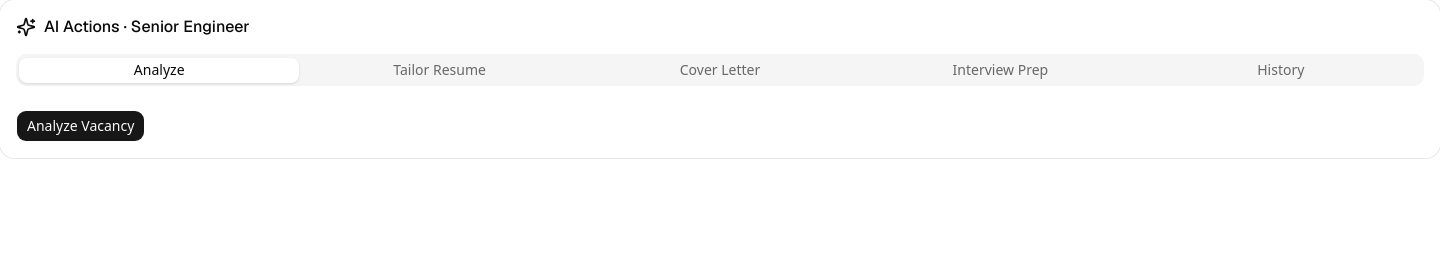
Test: AiActionsPanel › shows a failed state when the async pipeline reports a failure
What coordinates should you click on to do the following:
click the tab "Tailor Resume"
I would click on:
 (440, 70)
Its box is [299, 58, 580, 82].
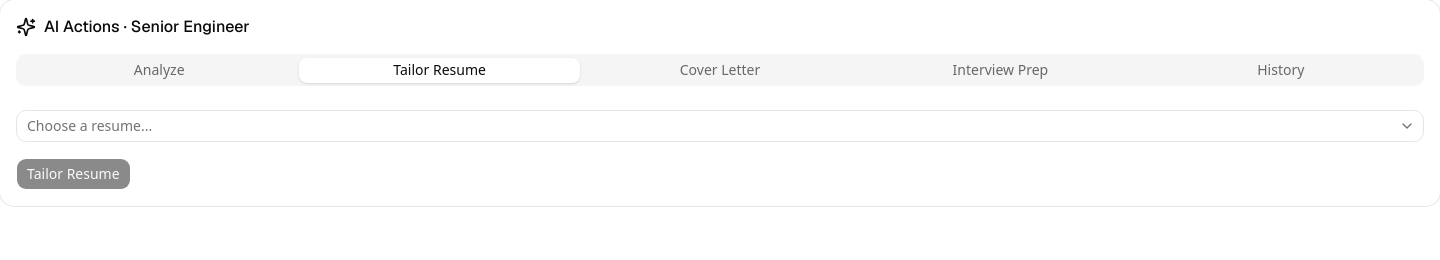
Expected: the number of dropdowns is 1
What coordinates should you click on to do the following:
click the dropdown
I would click on:
 (90, 126)
Its box is [16, 110, 1424, 142].
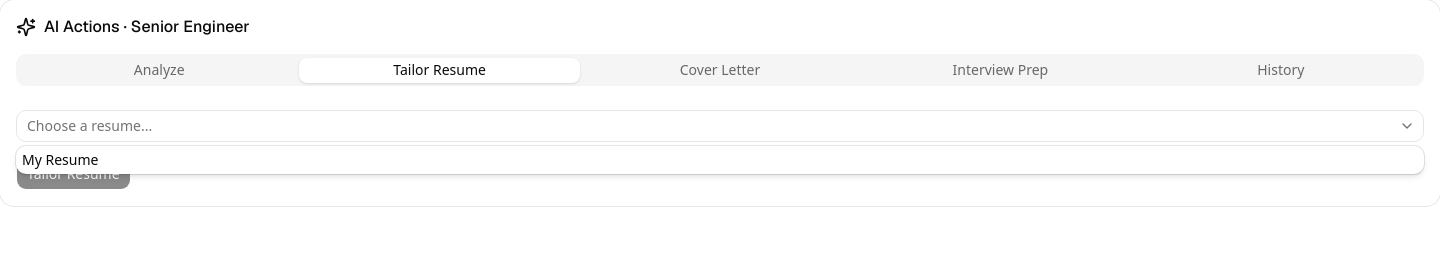
What coordinates should you click on to do the following:
click the option "My Resume"
I would click on:
 (60, 160)
Its box is [22, 150, 98, 169].
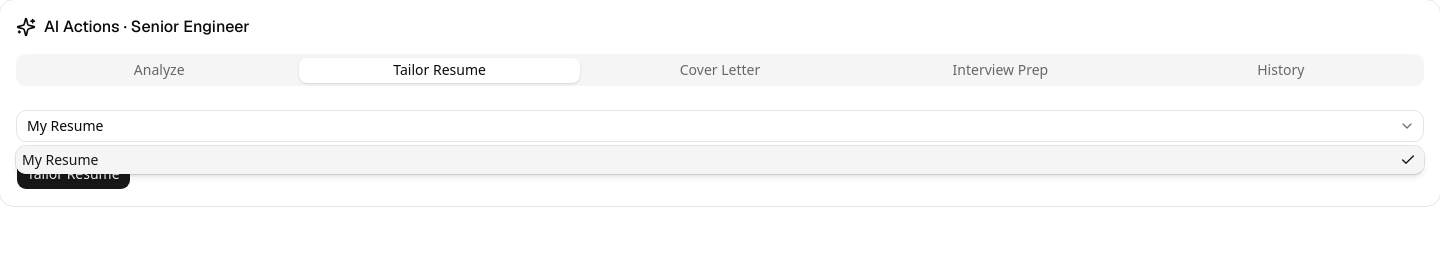
What coordinates should you click on to do the following:
click the button "Tailor Resume"
I would click on:
 (73, 174)
Its box is [16, 158, 131, 190].
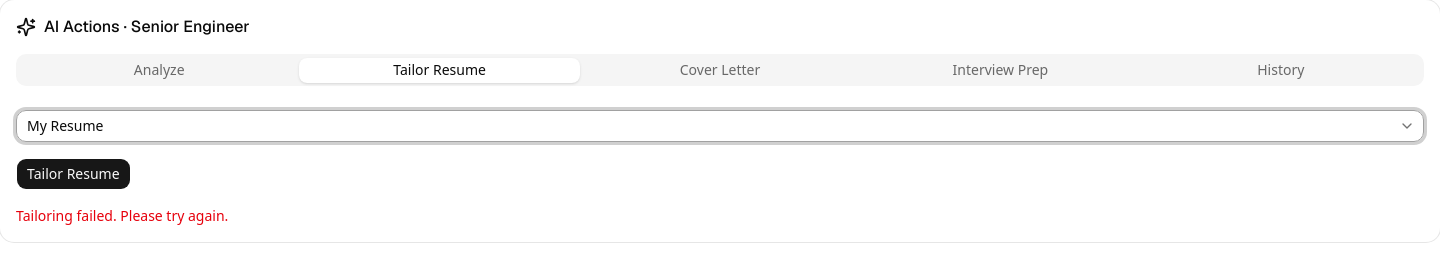
Expected: the text "Tailoring failed. Please try again." is shown, [16, 206, 228, 225]
